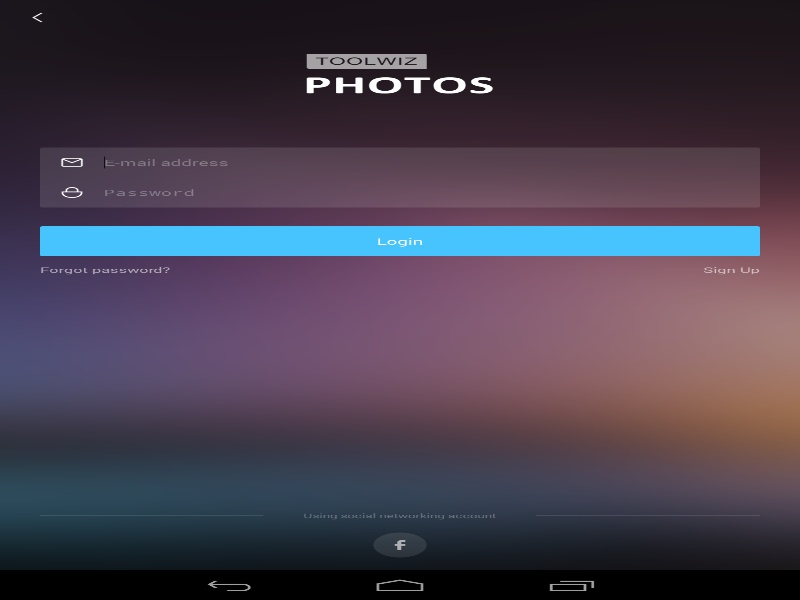Input: (104, 147, 760, 177), (104, 177, 760, 207)
